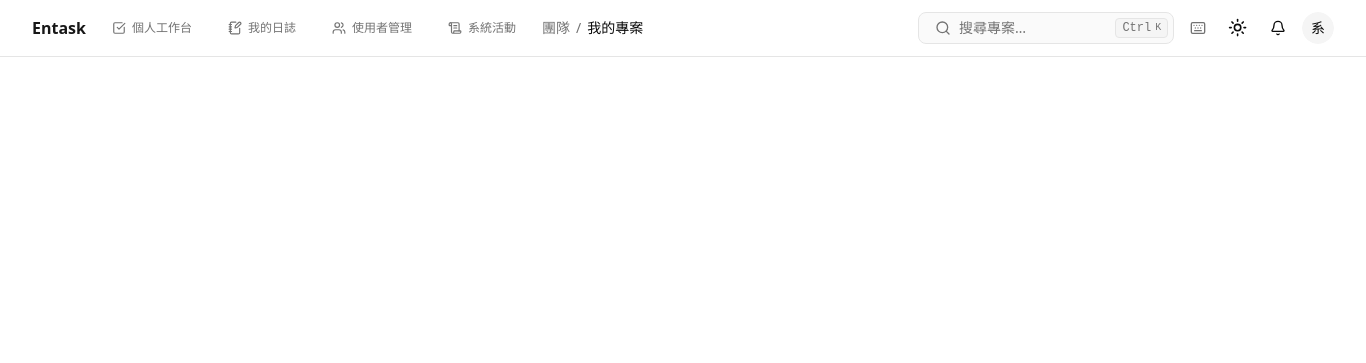
AppLayout 團隊管理導覽保護 › 管理員在專案頁時，麵包屑包含團隊連結且頭像選單包含選擇團隊
Expected: the link "團隊" is shown, left=542, top=18, right=570, bottom=38
Expected: the text "我的專案" is shown, left=587, top=18, right=643, bottom=38
# 點擊頭像打開下拉選單 (Radix PointerDown)
Step 1. Press the mouse on the button named "使用者選單" → (1318, 28), box left=1302, top=12, right=1334, bottom=44
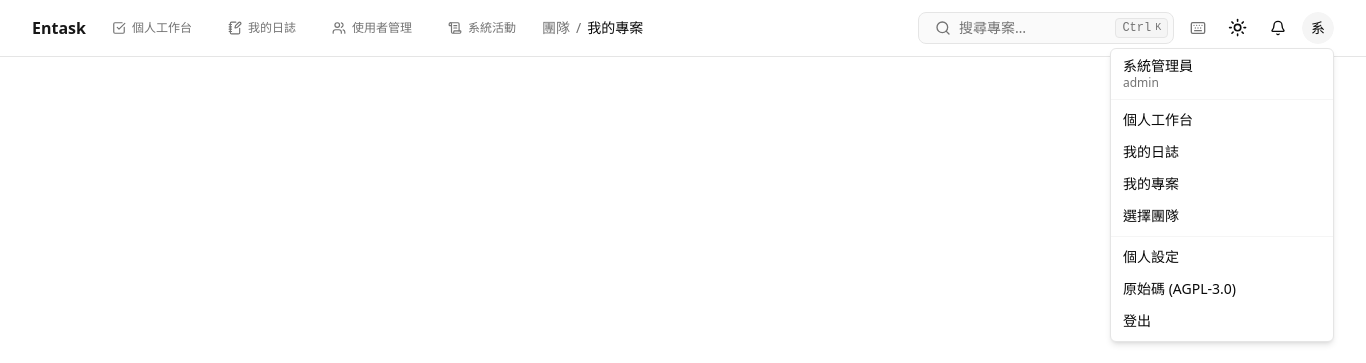
Expected: the menu item "選擇團隊" is shown, left=1123, top=206, right=1179, bottom=225
